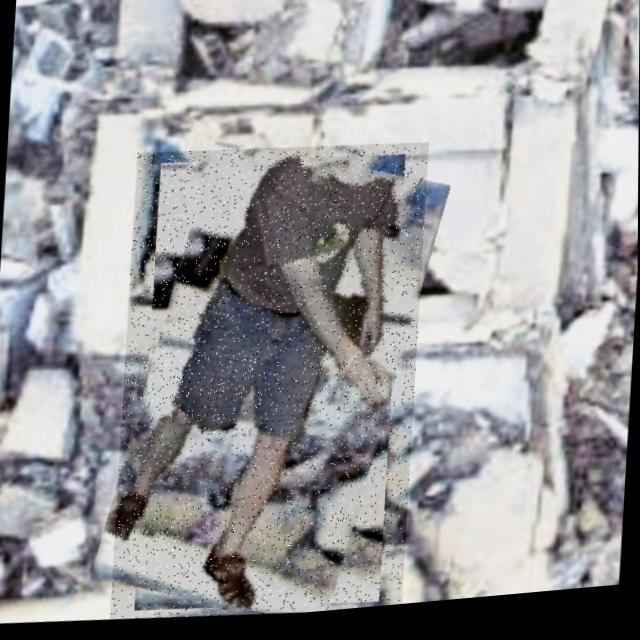Person in Rubble: (110, 135, 429, 632)
